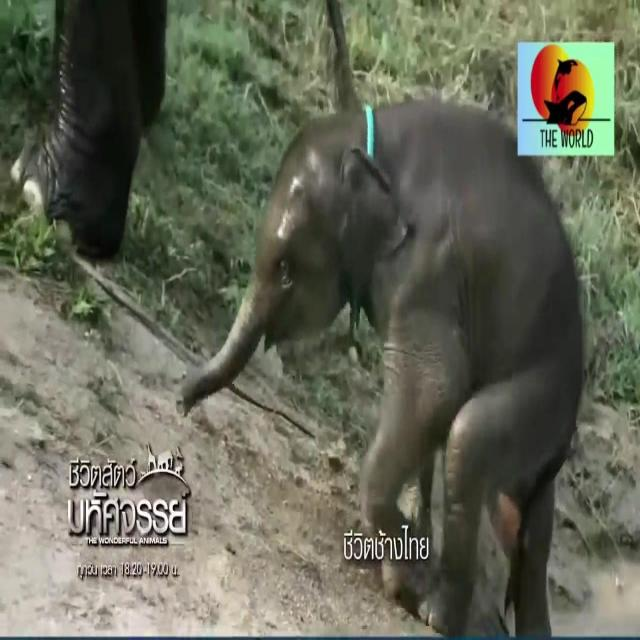Elephant: (270, 129, 488, 371), (54, 3, 129, 240)
